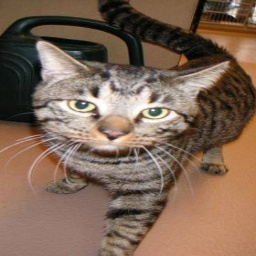cat: (32, 8, 246, 256)
